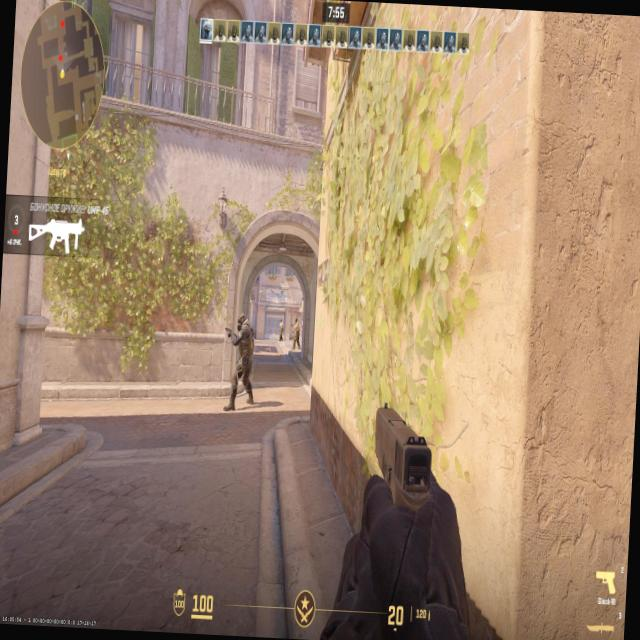CT: (236, 316, 252, 378)
CT_heat: (240, 318, 248, 332)
T: (294, 322, 300, 347), (278, 320, 284, 340)
T_heat: (296, 322, 299, 327), (280, 318, 282, 324)
